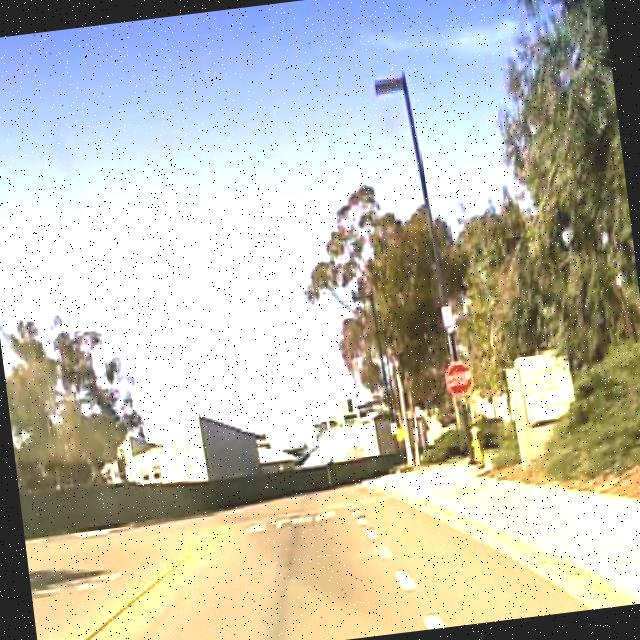Stop: (441, 353, 477, 402)
